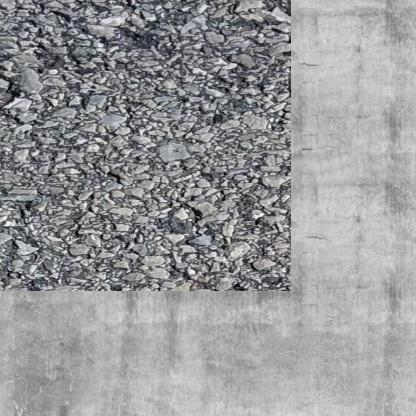Cracks: (0, 231, 269, 269)
